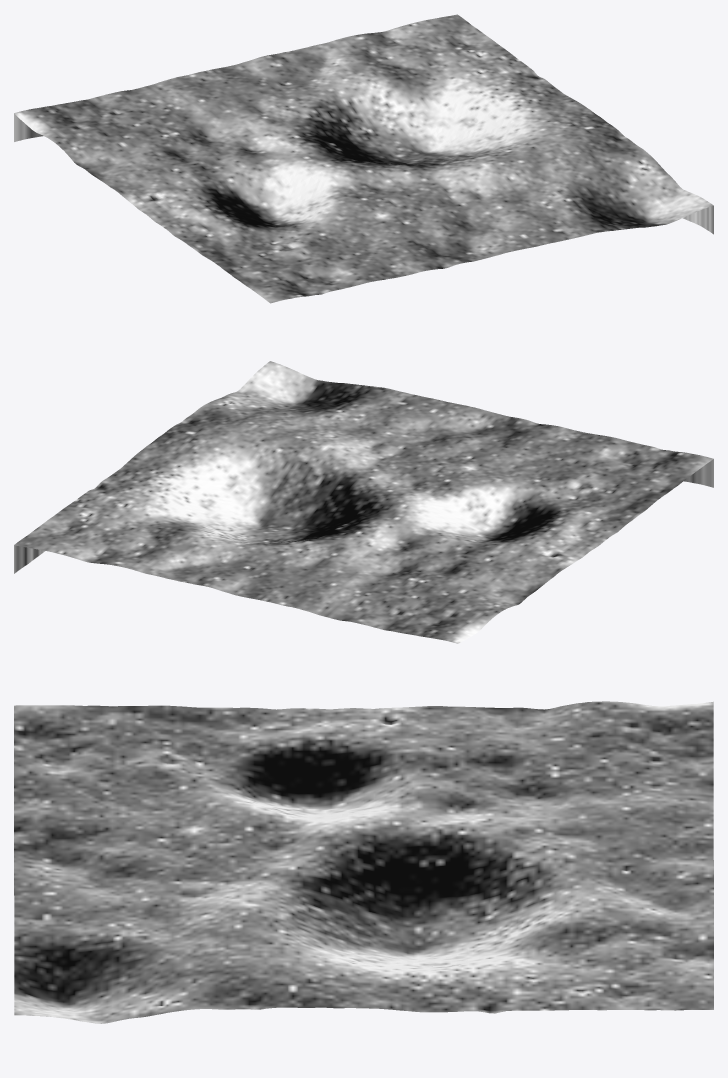
3 renders of one model, top to bottom at view 1: azimuth 30°, elevation 25°; view 2: azimuth 150°, elevation 25°; view 3: azimuth 270°, elevation 25°, orthographic. The views are drawn at different scales.
Size of the model in its own units: 1278 by 138 by 1279.
Materials: 1 (1 with a texture image).
